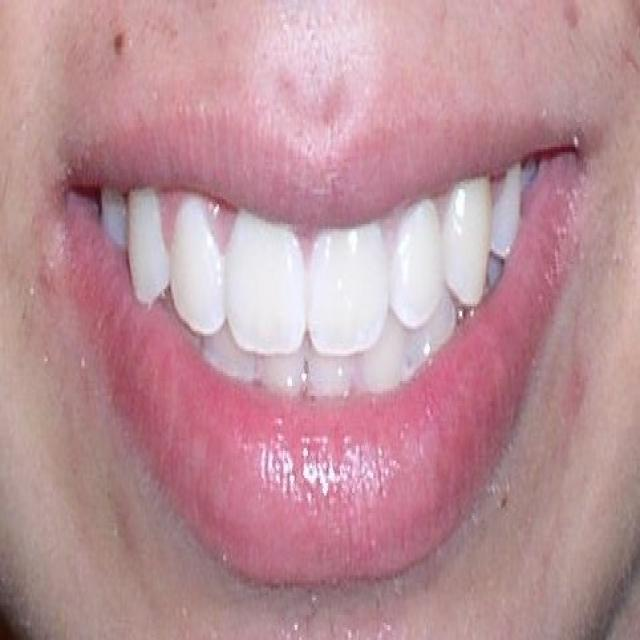tooth: (227, 214, 312, 351), (311, 232, 385, 351), (167, 192, 222, 334), (390, 204, 449, 319), (448, 184, 488, 309), (128, 194, 172, 304), (358, 328, 419, 388), (494, 165, 528, 262), (204, 326, 260, 381), (308, 341, 353, 396), (418, 299, 462, 346), (264, 344, 308, 391), (105, 192, 129, 252), (490, 254, 509, 276)
